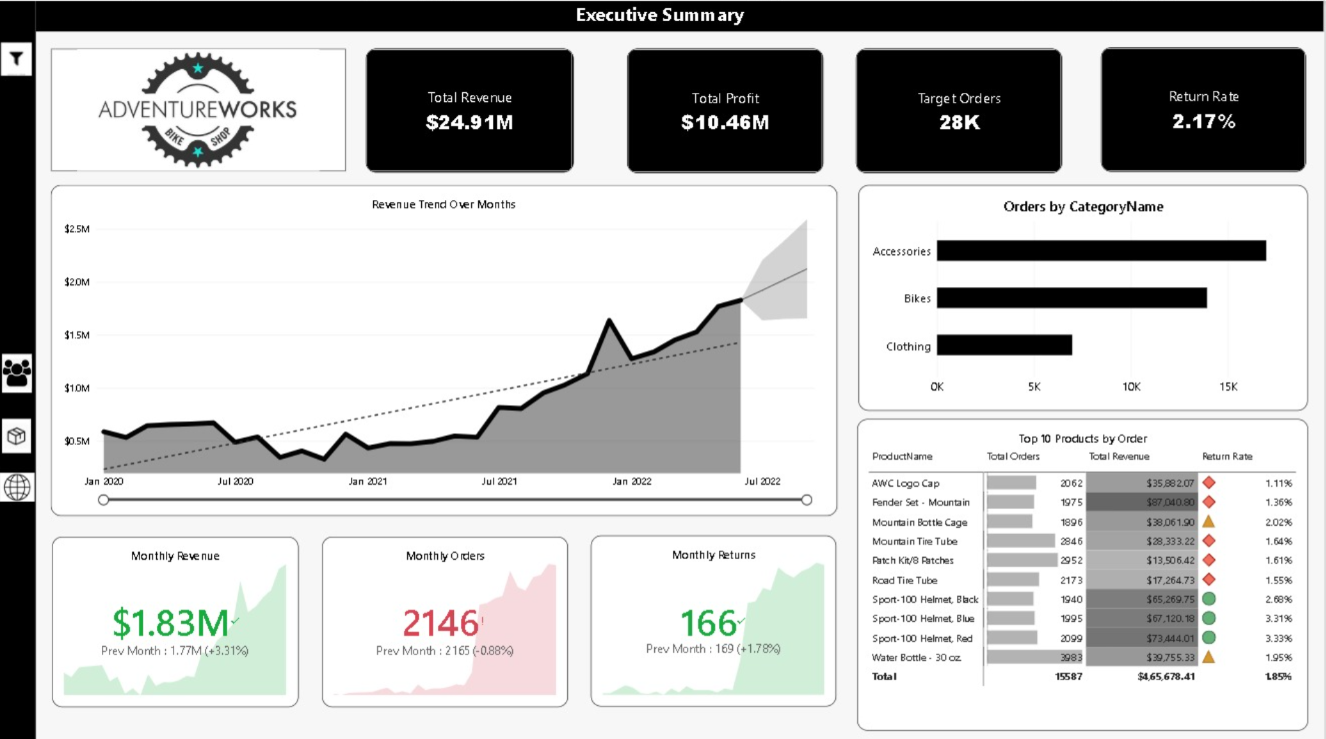

Layout of this report page (visuals, bound fields, positions):
{"tool":"powerbi","page":{"name":"Executive Summary","canvas":[1920,1080],"ordinal":0},"visuals":[{"type":"textbox","box":[0,0,1920,44],"z":0},{"type":"shape","box":[0,0,55.7,1080],"z":1000},{"type":"image","box":[77.8,68.8,427.1,177.3],"z":2000},{"type":"cardVisual","fields":{"Data":["Measure Table.Total Revenue"]},"box":[533.8,68.8,300.4,179.2],"z":3000},{"type":"cardVisual","fields":{"Data":["Measure Table.Total Profit"]},"box":[912,68,284,180],"z":4000},{"type":"cardVisual","fields":{"Data":["Measure Table.Return Rate"]},"box":[1597.1,67.1,297.1,180],"z":5000},{"type":"cardVisual","fields":{"Data":["Measure Table.Target Orders"]},"box":[1244,68,298,180],"z":6000},{"type":"clusteredBarChart","title":" Orders by CategoryName","fields":{"Category":["Product Categories Lookup.CategoryName"],"Y":["Measure Table.Total Orders"]},"box":[1246,266,650,326],"z":7000},{"type":"lineChart","title":"Revenue Trend Over Months ","fields":{"Category":["Calendar Lookup.Start of Month.Variation.Date Hierarchy.Year","Calendar Lookup.Start of Month.Variation.Date Hierarchy.Month"],"Y":["Measure Table.Total Revenue"]},"box":[78,266,1138,478],"z":8000},{"type":"pivotTable","title":"Top 10 Products by Order","fields":{"Rows":["Product Lookup.ProductName"],"Values":["Measure Table.Total Orders","Measure Table.Total Revenue","Measure Table.Return Rate"]},"box":[1245,605,652.5,450],"z":9000},{"type":"kpi","title":"Monthly Revenue","fields":{"Goal":["Measure Table.Prev Month Revenue"],"Indicator":["Measure Table.Total Revenue"],"TrendLine":["Calendar Lookup.Start of Month"]},"box":[79.8,774.2,356.5,246.1],"z":10000},{"type":"kpi","title":"Monthly Returns","fields":{"Goal":["Measure Table.Prev Month Returns"],"Indicator":["Measure Table.Total Return"],"TrendLine":["Calendar Lookup.Start of Month"]},"box":[860,772.8,355,247.5],"z":11000},{"type":"kpi","title":"Monthly Orders","fields":{"Goal":["Measure Table.Prev Month Orders"],"Indicator":["Measure Table.Total Orders"],"TrendLine":["Calendar Lookup.Start of Month"]},"box":[470.2,774.2,356,246.1],"z":12000},{"type":"image","box":[7.2,510.3,43.4,56.1],"z":13000},{"type":"image","box":[7.2,604.4,41.6,48.9],"z":14000},{"type":"image","box":[3.6,682.2,50.7,41.6],"z":15000},{"type":"actionButton","box":[0,43.4,56.1,81.4],"z":16000}]}

Visuals, with their boxes in screenshot pixels (x1, y1, x2, y2), scaled from the page's 1920x1080 canvas onto the 1326x739 screenshot:
textbox: bbox=(0, 0, 1325, 30)
shape: bbox=(0, 0, 38, 738)
image: bbox=(54, 47, 349, 168)
cardVisual - Measure Table.Total Revenue: bbox=(369, 47, 576, 170)
cardVisual - Measure Table.Total Profit: bbox=(630, 47, 826, 170)
cardVisual - Measure Table.Return Rate: bbox=(1103, 46, 1308, 169)
cardVisual - Measure Table.Target Orders: bbox=(859, 47, 1065, 170)
" Orders by CategoryName" clusteredBarChart: bbox=(861, 182, 1309, 405)
"Revenue Trend Over Months " lineChart: bbox=(54, 182, 840, 509)
"Top 10 Products by Order" pivotTable: bbox=(860, 414, 1310, 722)
"Monthly Revenue" kpi: bbox=(55, 530, 301, 698)
"Monthly Returns" kpi: bbox=(594, 529, 839, 698)
"Monthly Orders" kpi: bbox=(325, 530, 571, 698)
image: bbox=(5, 349, 35, 388)
image: bbox=(5, 414, 34, 447)
image: bbox=(2, 467, 38, 495)
actionButton: bbox=(0, 30, 39, 85)
